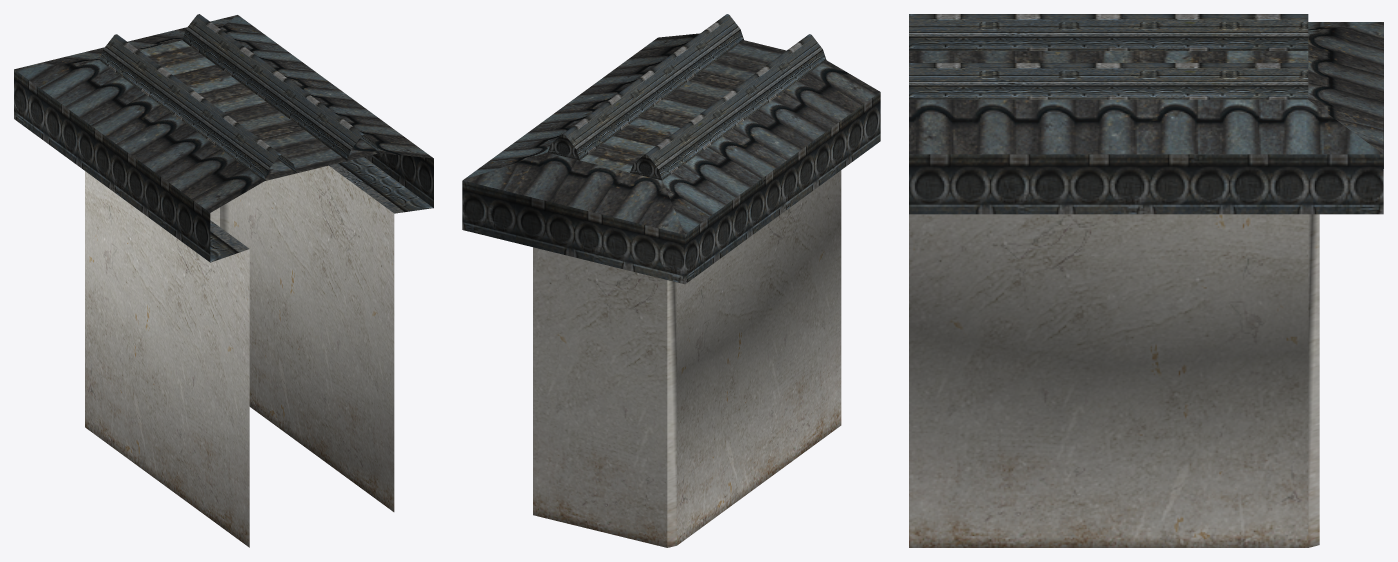
Rendered from wall_end_01.fbx.
3 views of the same model, side by side, from view 1: azimuth 30°, elevation 25°; view 2: azimuth 150°, elevation 25°; view 3: azimuth 270°, elevation 25° (orthographic). The views are drawn at different scales.
Visible parts, largest first — view 1: wall_end_01; view 2: wall_end_01; view 3: wall_end_01.
Boxes of the visible parts, left/top/right/bottom form: wall_end_01: left=14, top=14, right=433, bottom=547; wall_end_01: left=462, top=14, right=880, bottom=547; wall_end_01: left=909, top=14, right=1383, bottom=547.
Size of the model in its own units: 61.64 by 101 by 93.66.
